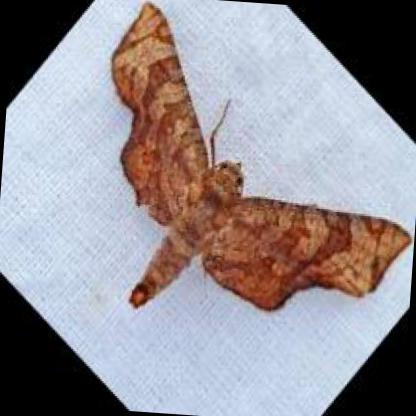Leaf Webber: (104, 0, 413, 316)
